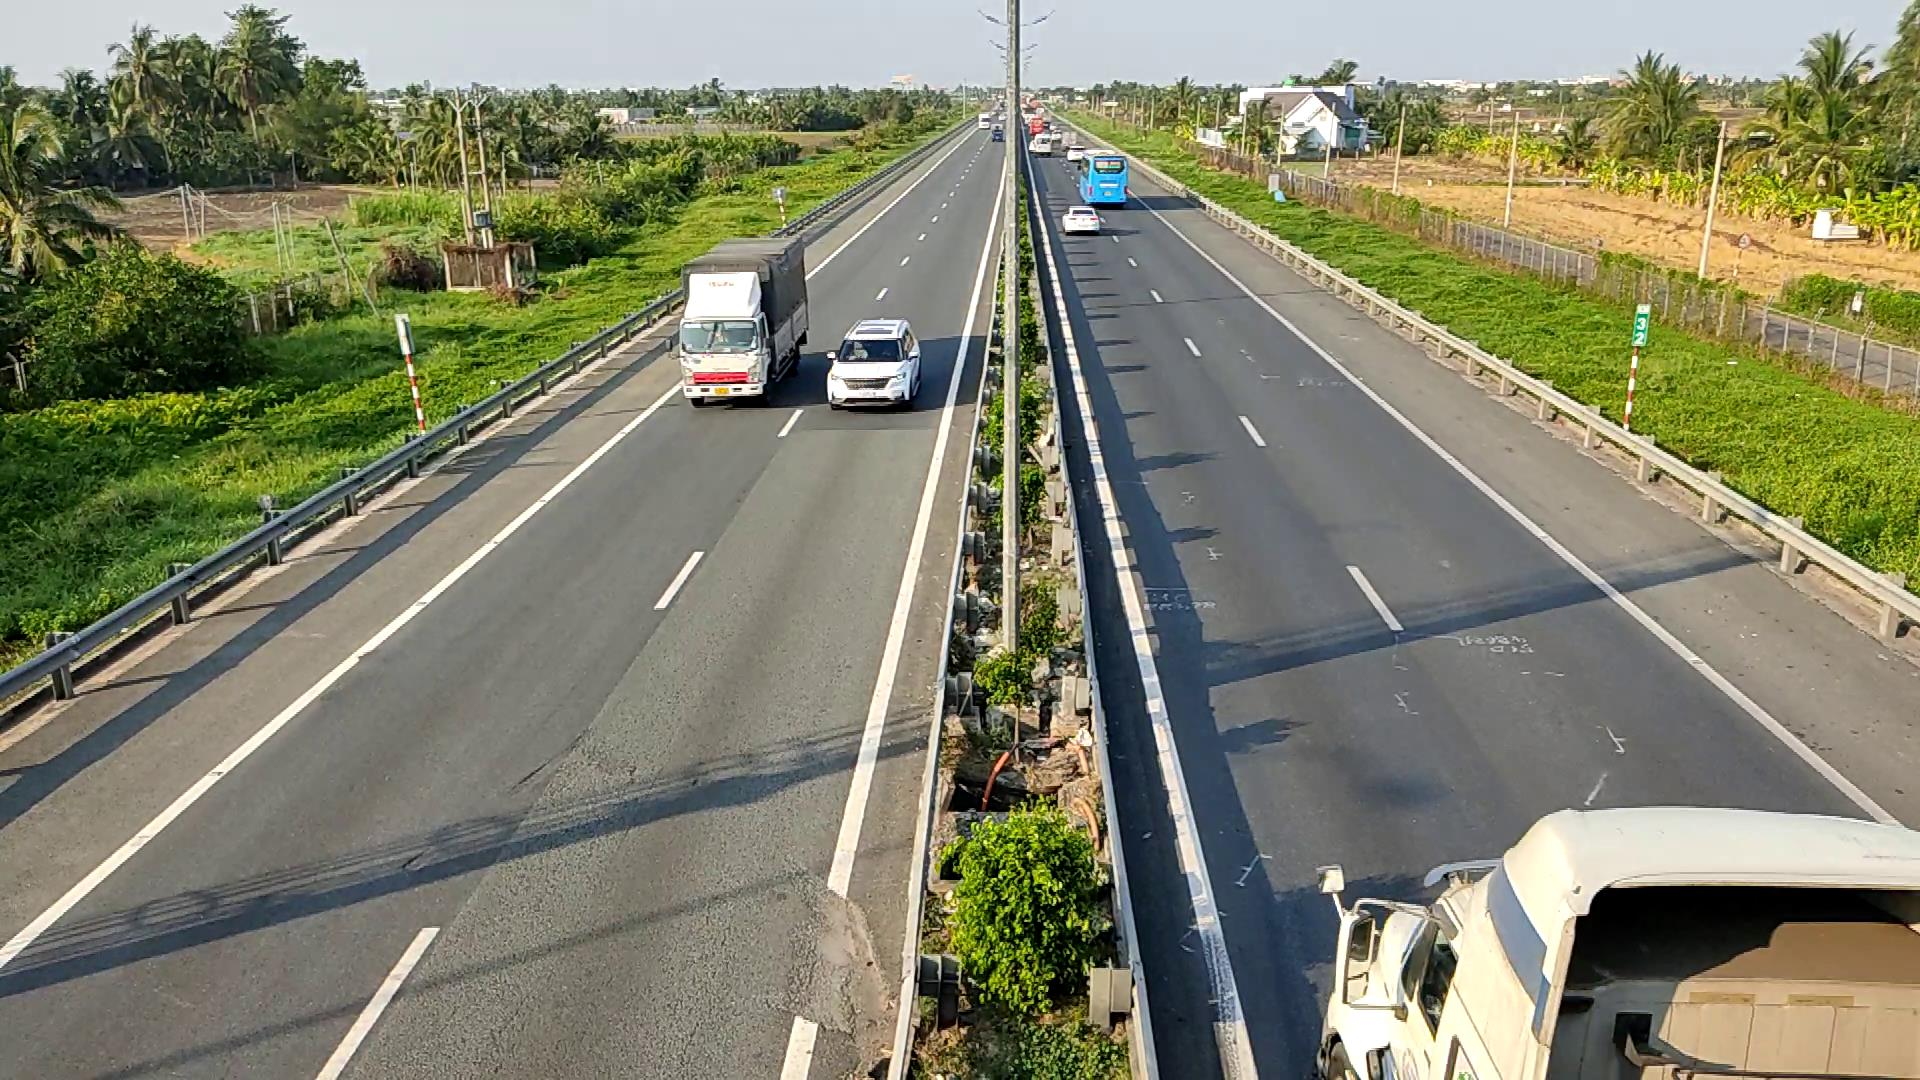car: (823, 316, 922, 409), (1060, 206, 1101, 233)
truck: (1313, 806, 1917, 1069), (675, 233, 810, 406)
